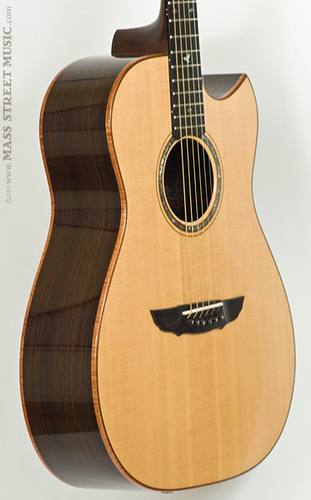guitar: (15, 1, 297, 496)
